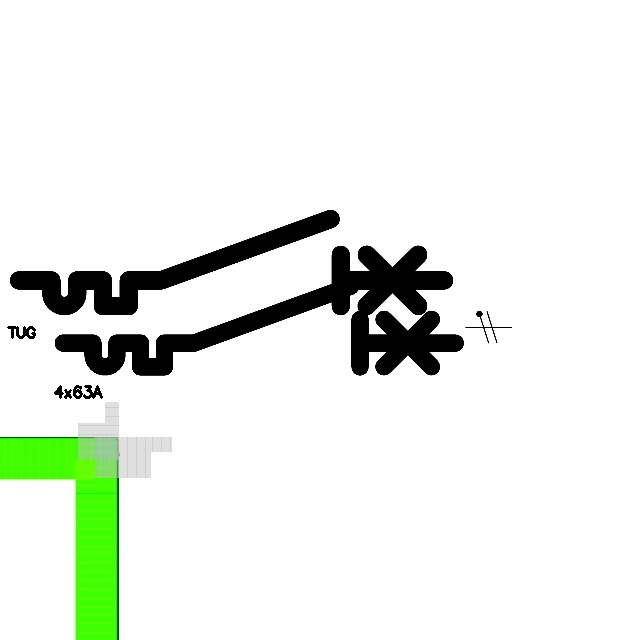interruptor_termomagnetico: (8, 208, 455, 317), (53, 276, 466, 377)
